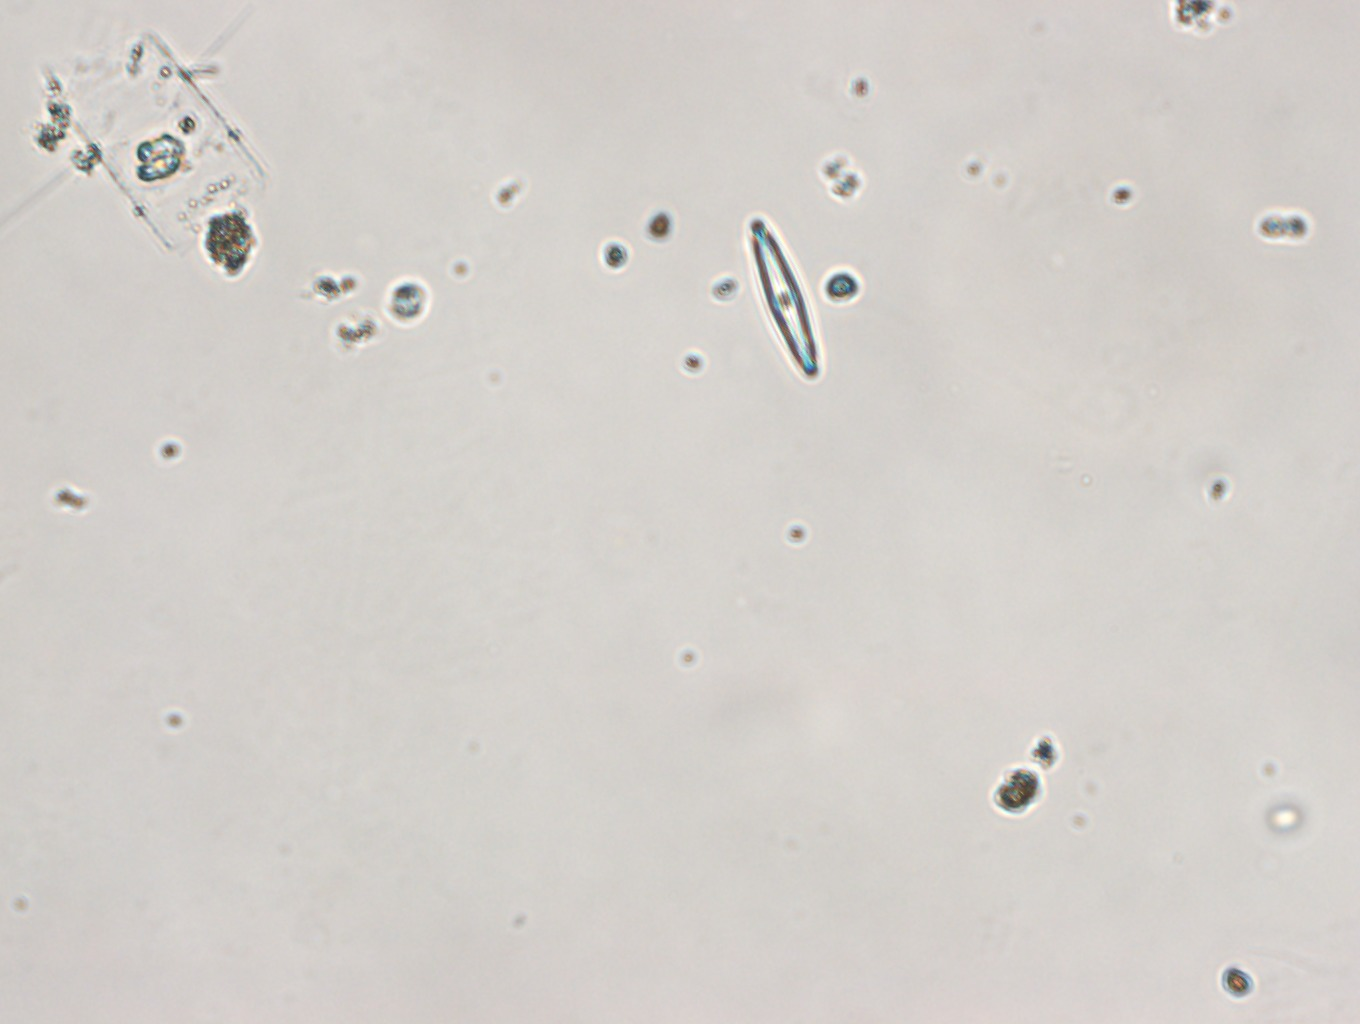navicula: (748, 211, 830, 379)
